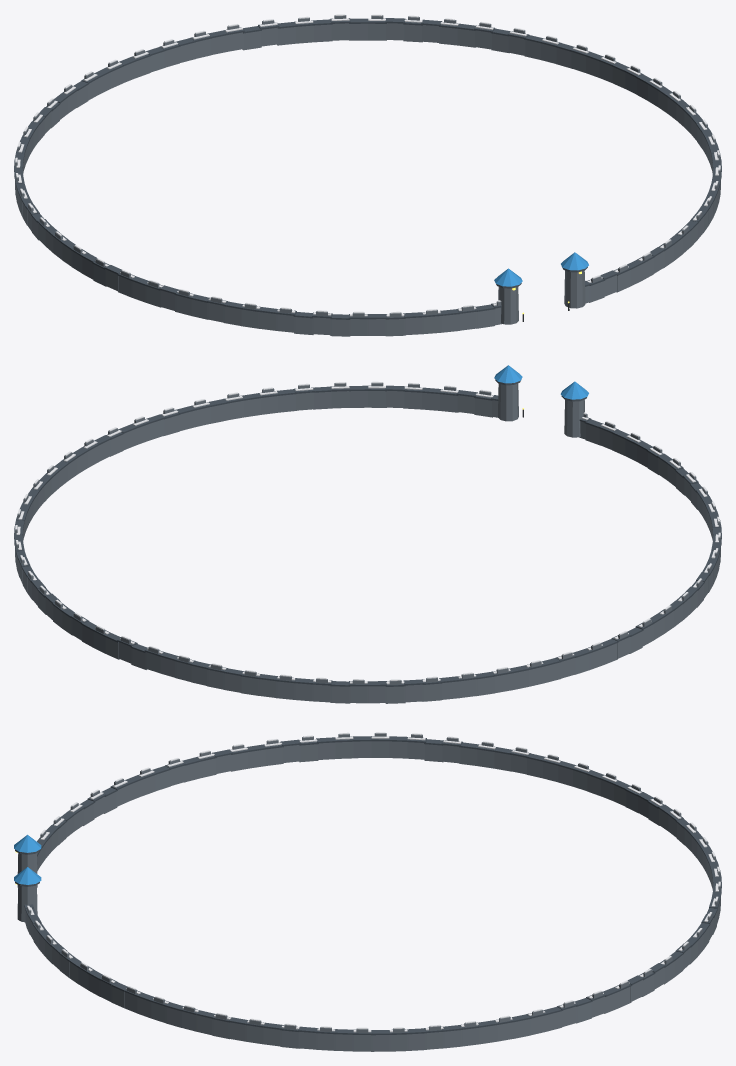
Rendered from city_wall_t2.glb.
The picture shows the model from 3 angles, top to bottom: view 1: azimuth 30°, elevation 25°; view 2: azimuth 150°, elevation 25°; view 3: azimuth 270°, elevation 25°; orthographic projection.
Visible parts, largest first — view 1: city_wall_t2; view 2: city_wall_t2; view 3: city_wall_t2.
Part boxes in pixels (left/top/right/bottom): city_wall_t2: left=14, top=14, right=721, bottom=336; city_wall_t2: left=14, top=365, right=721, bottom=703; city_wall_t2: left=14, top=732, right=721, bottom=1051.
Size of the model in its own units: 93.19 by 7.94 by 94.12.
